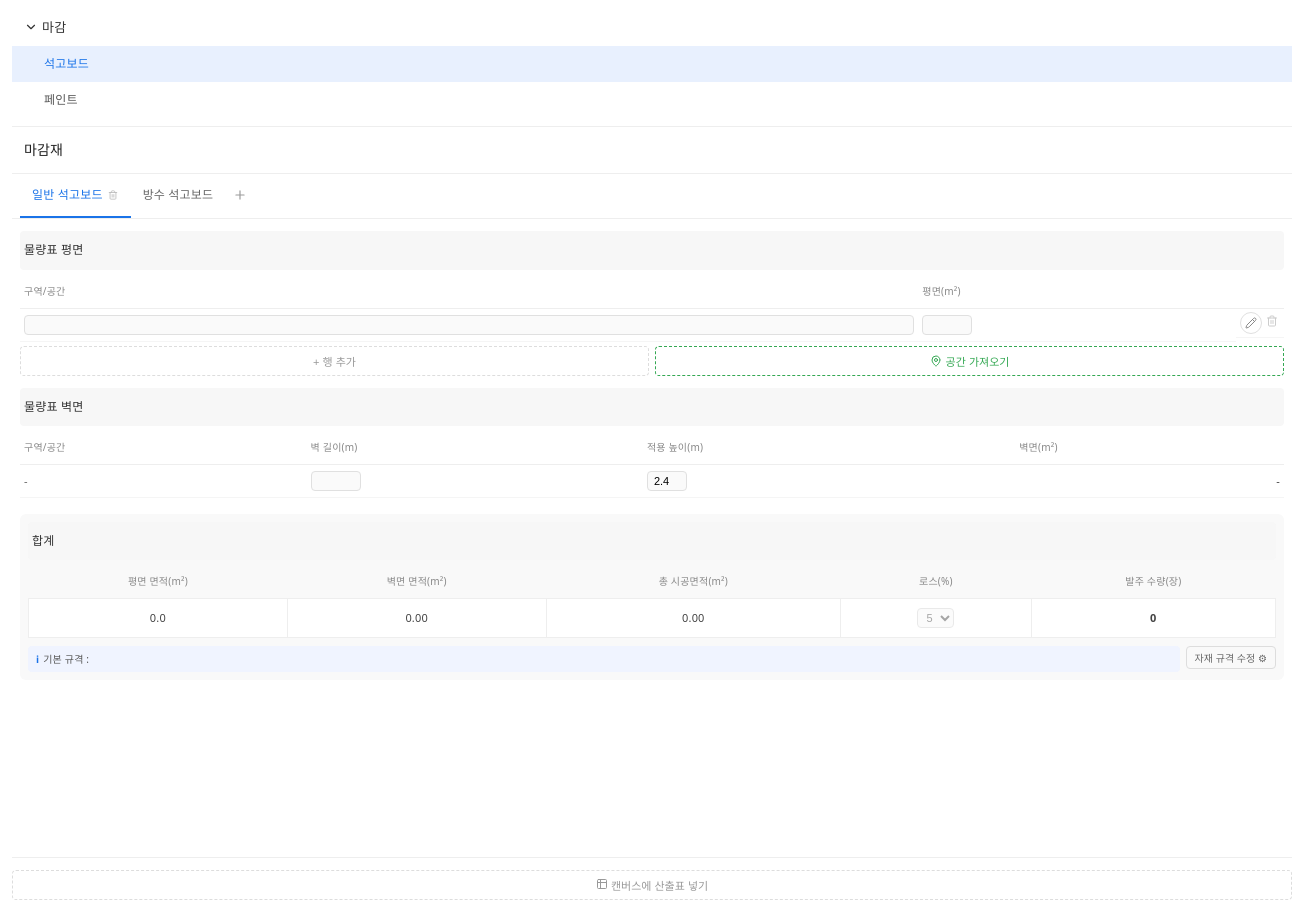
종류 번호 › 종류가 하나뿐인 자재에서도 재질 적용이 들어간다
This screenshot has width=1304, height=900.
Click the text "페인트" at {"x": 61, "y": 100}, box [44, 91, 78, 108]
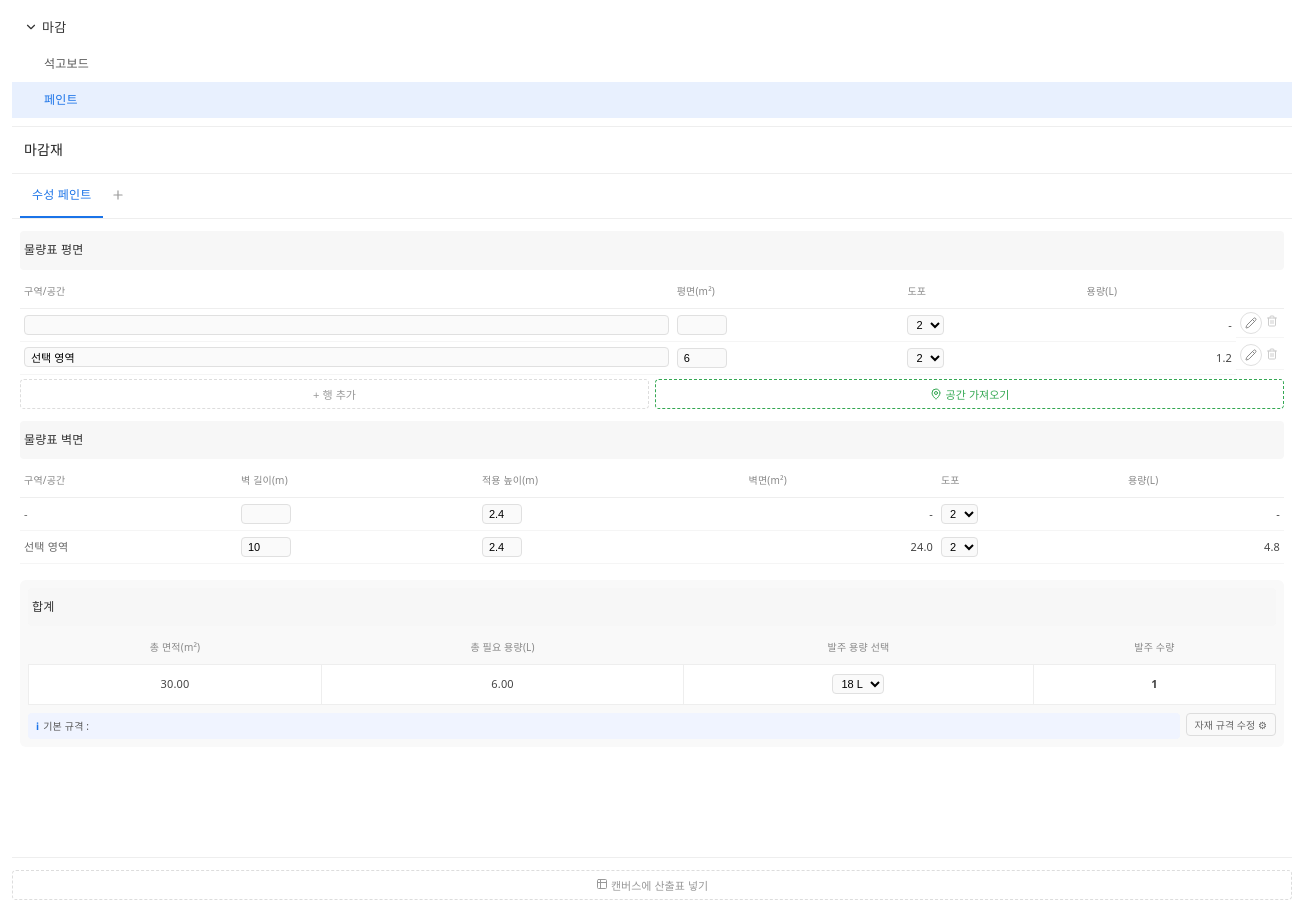
Check: the 3rd field showing "선택 영역" is shown, box [24, 347, 669, 367]
